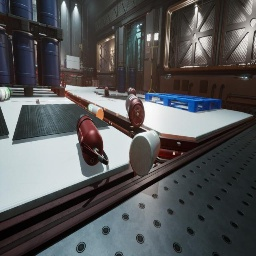0: (129, 130, 161, 177), (87, 104, 104, 120), (0, 87, 13, 101)
FireExtinguisher ]: (76, 114, 109, 166), (104, 86, 109, 96)
FirstAidBox ,: (61, 80, 66, 88), (13, 62, 14, 62)
NitrogenTank ,: (125, 94, 145, 127), (128, 88, 136, 96), (125, 86, 127, 92)
SafetySwitchPanel ,: (146, 35, 152, 54), (90, 77, 93, 77)
